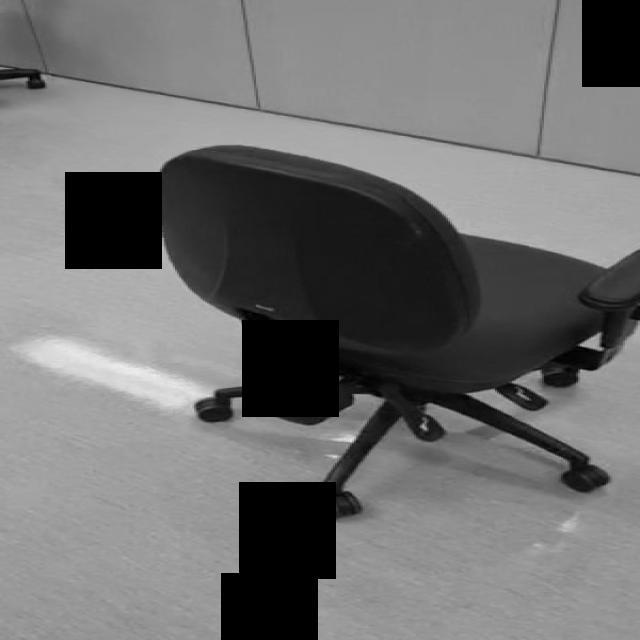chair: (153, 144, 640, 516)
